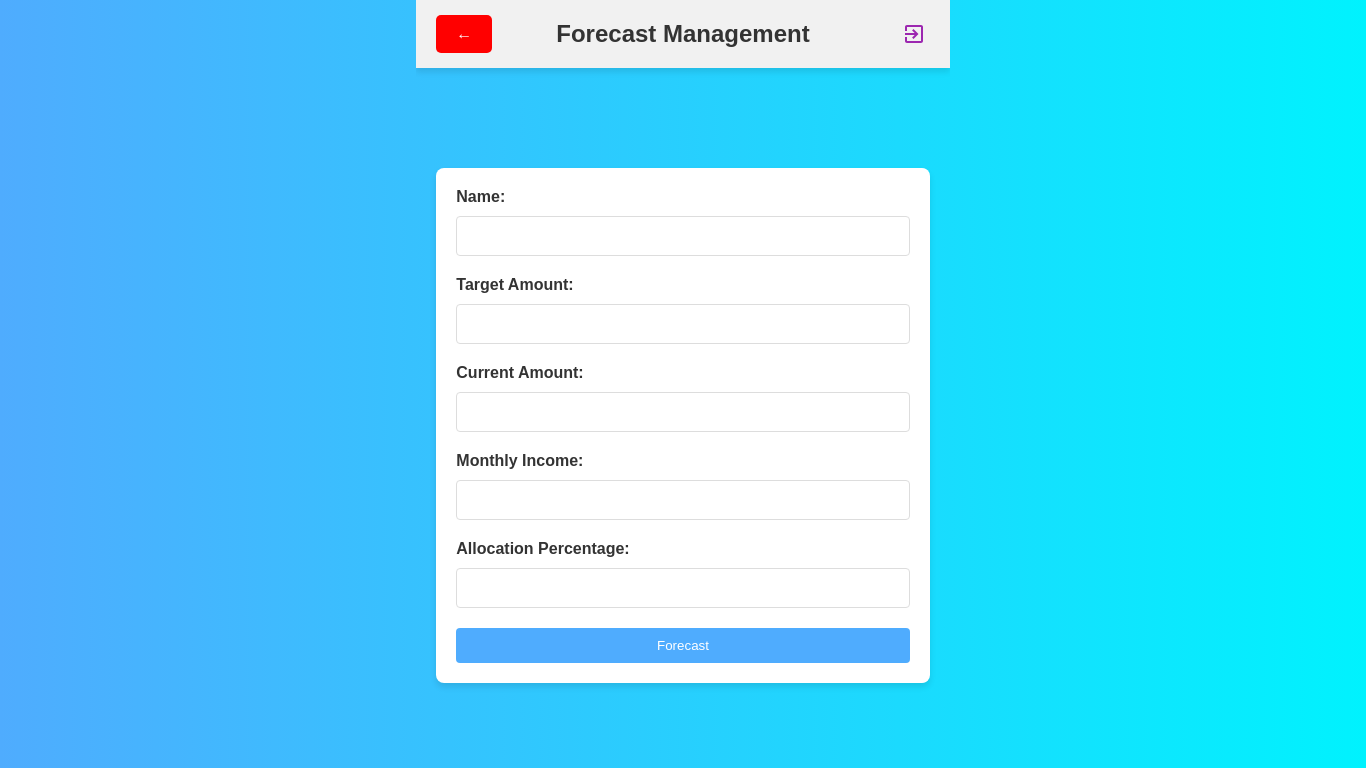
Test: submits form and shows forecast result
This screenshot has width=1366, height=768.
Step 1. Type "Test Forecast" into the field labelled "Name:" → (683, 236), box top-left (456, 216), bottom-right (910, 256)
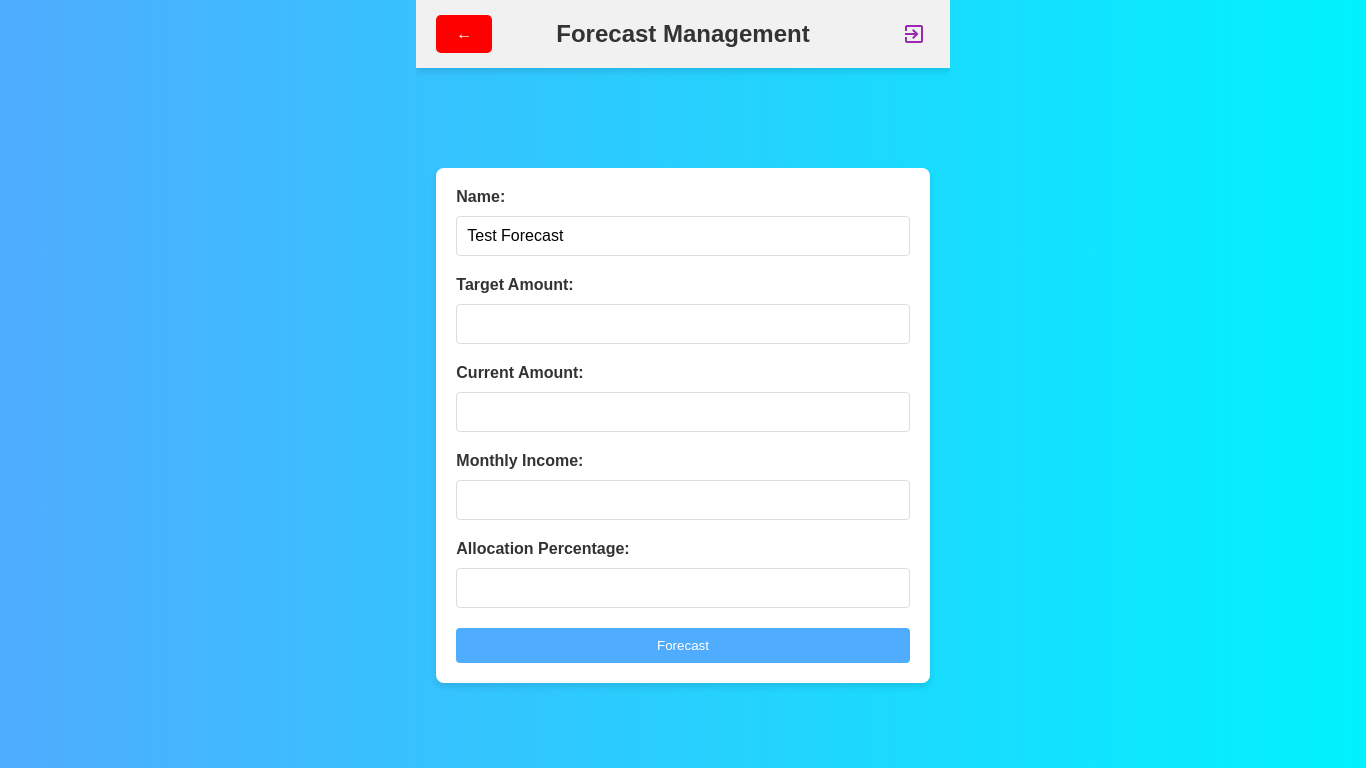
Step 2. Type "5000" into the number field labelled "Target Amount:" → (683, 324), box top-left (456, 304), bottom-right (910, 344)
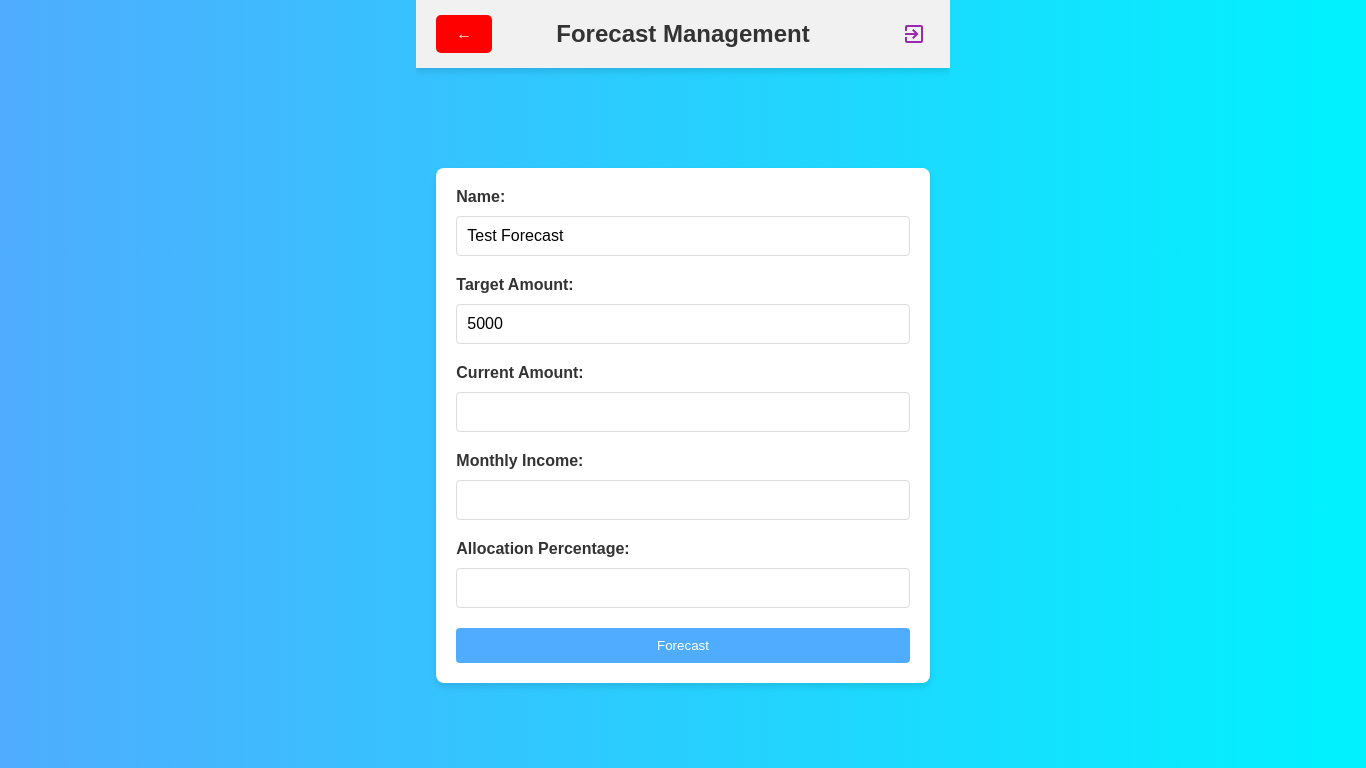
Step 3. Type "1000" into the number field labelled "Current Amount:" → (683, 412), box top-left (456, 392), bottom-right (910, 432)
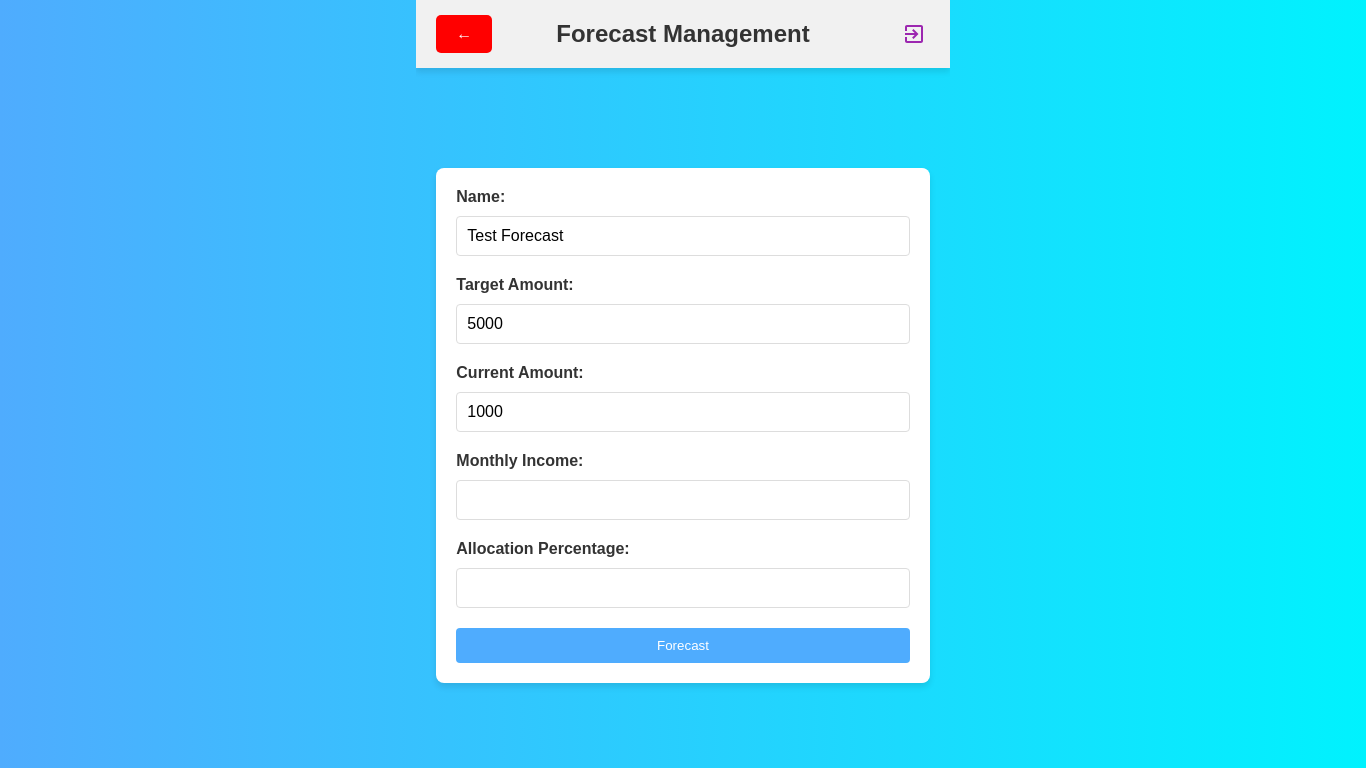
Step 4. Type "2000" into the number field labelled "Monthly Income:" → (683, 500), box top-left (456, 480), bottom-right (910, 520)
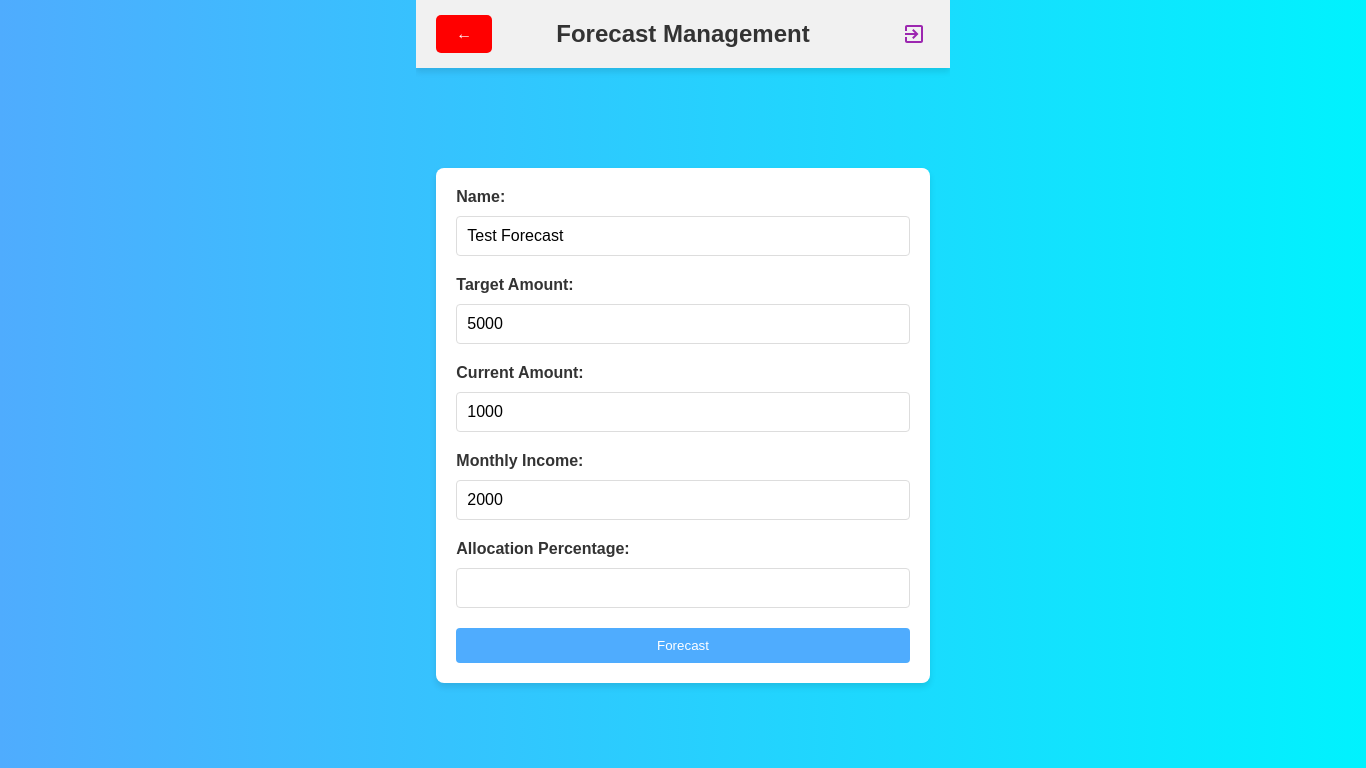
Step 5. Type "25" into the number field labelled "Allocation Percentage:" → (683, 588), box top-left (456, 568), bottom-right (910, 608)
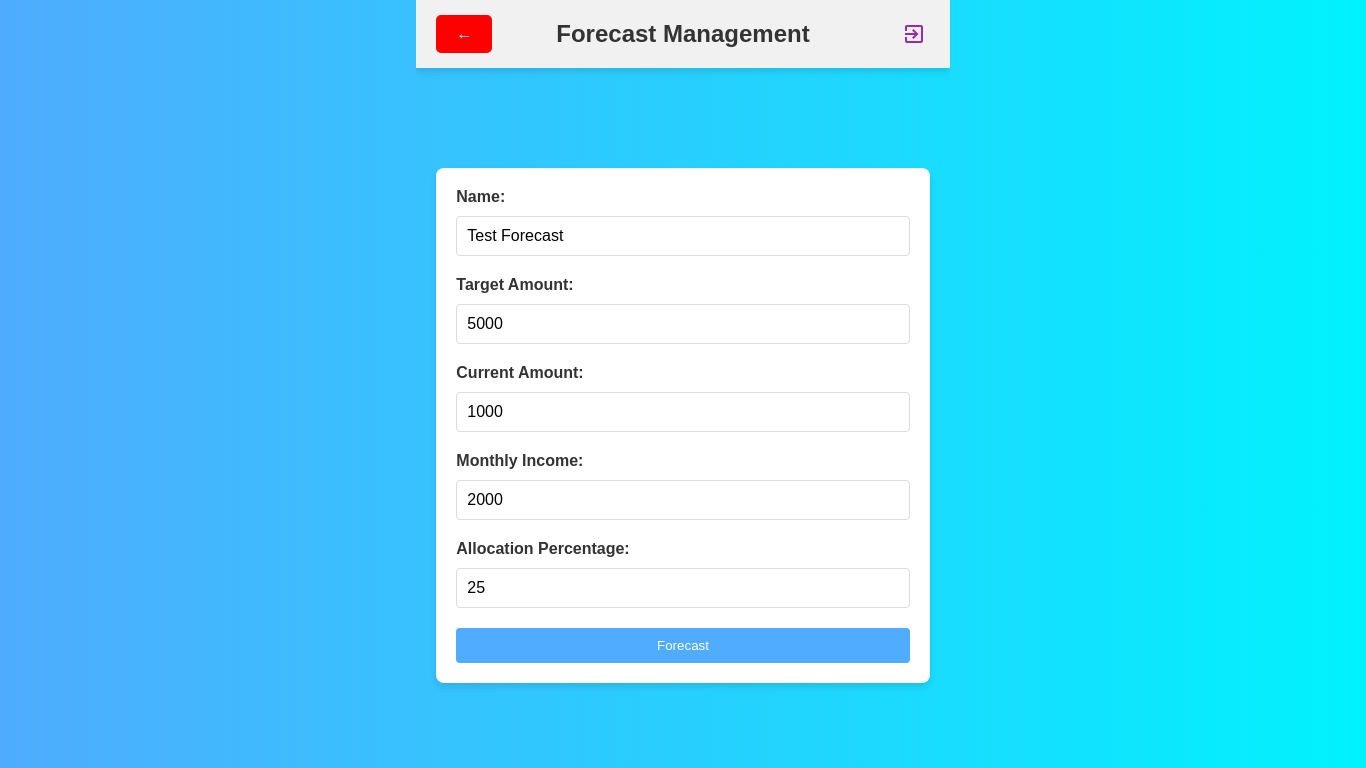
Step 6. Click the button "Forecast" → (683, 646), box top-left (456, 628), bottom-right (910, 663)
(page scrolled)
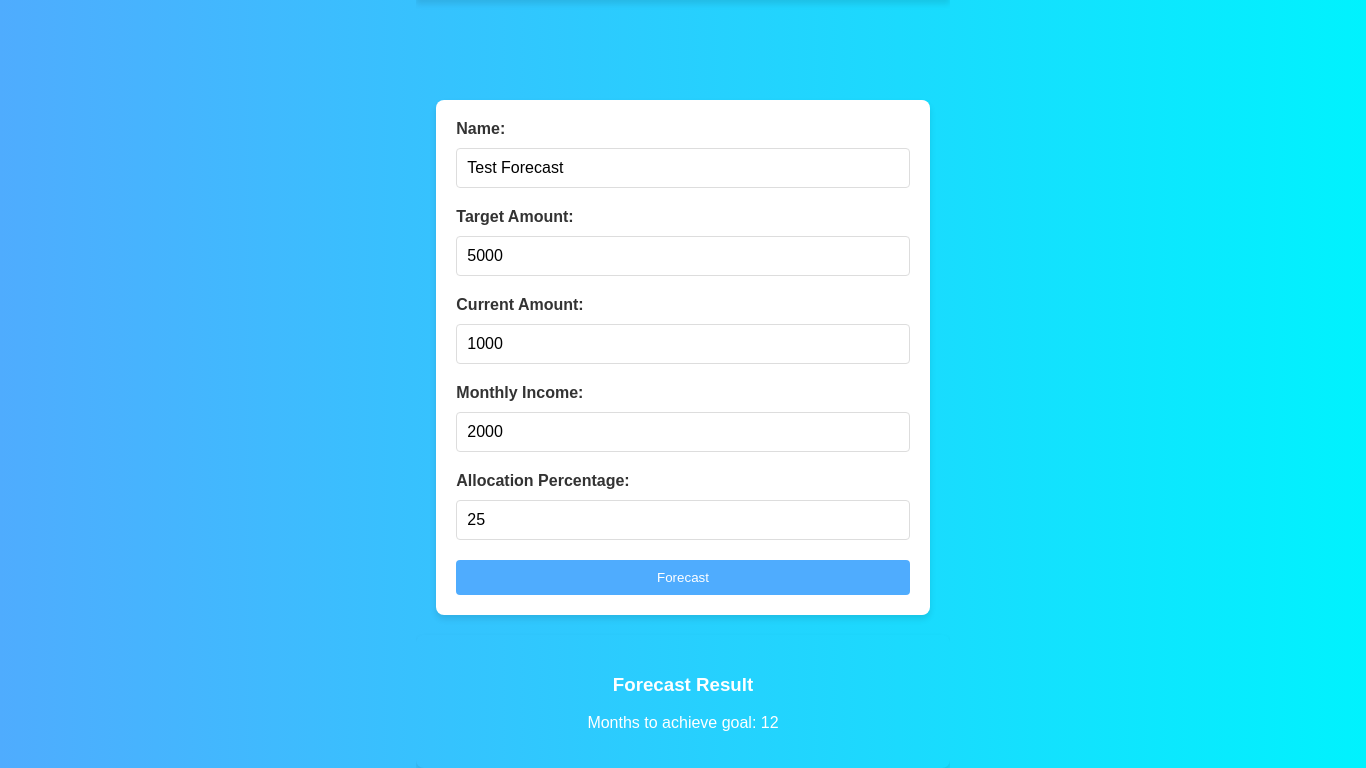
Expected: the text "Months to achieve goal: 12" is shown, top-left (587, 714), bottom-right (779, 731)
